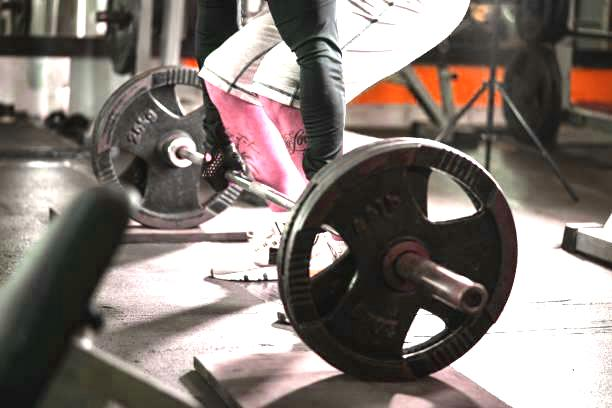Barbell: (451, 277, 489, 317)
